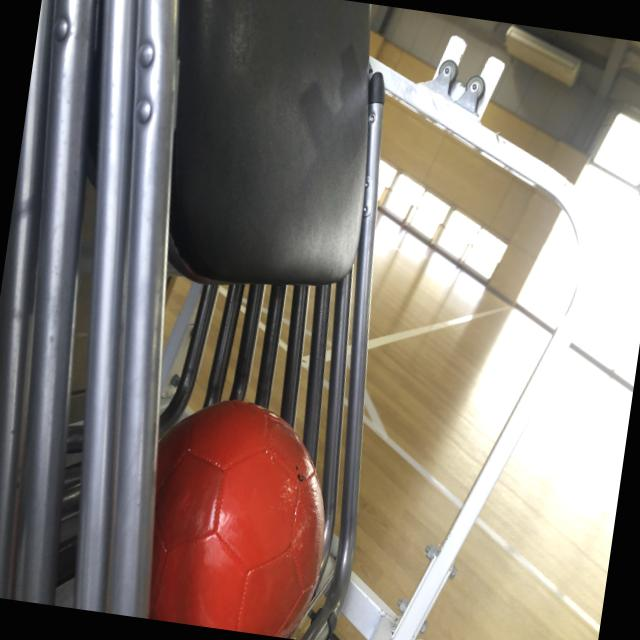red_ball: (124, 391, 343, 640)
